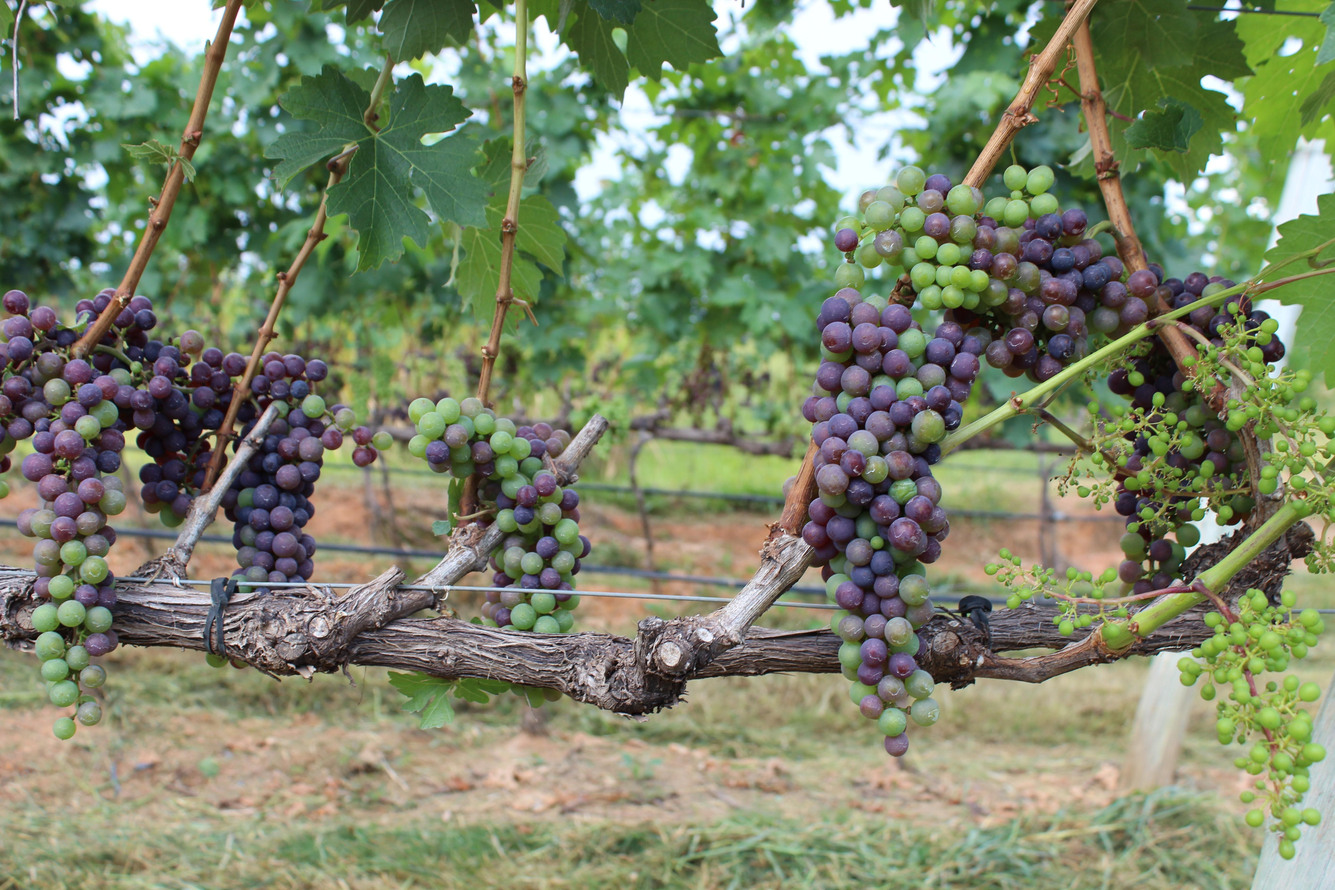leaf: (267, 66, 488, 271), (626, 0, 721, 80), (1267, 276, 1335, 386), (1091, 0, 1197, 69), (563, 0, 629, 101), (378, 0, 476, 62), (1265, 194, 1335, 263), (1124, 97, 1203, 153), (389, 672, 455, 729), (122, 139, 196, 182), (587, 0, 642, 25), (1315, 2, 1335, 65), (1267, 262, 1312, 280), (1314, 245, 1335, 264), (651, 0, 655, 2)
